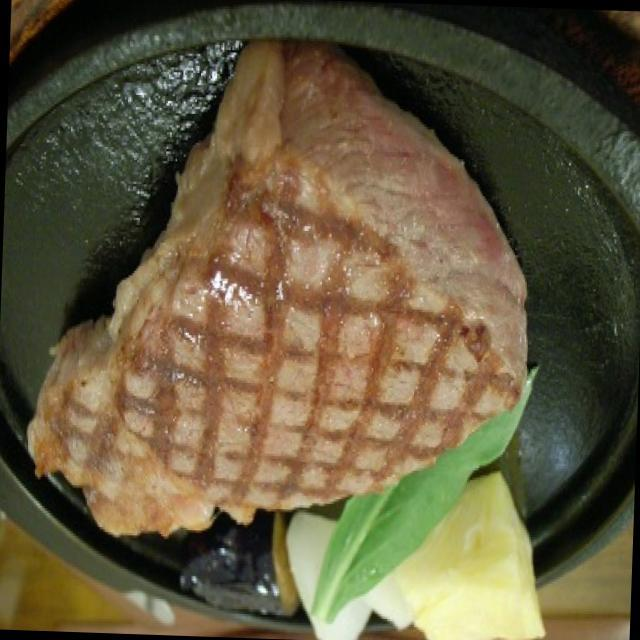Beef Steak: (28, 30, 533, 528)
